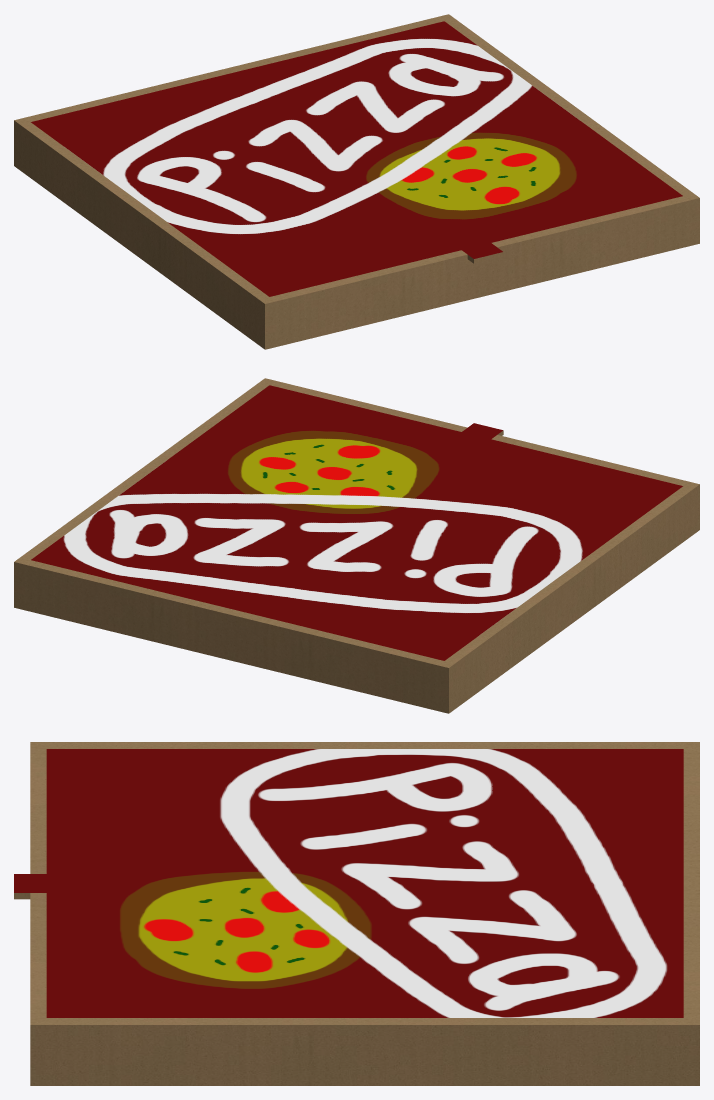
Rendered from PizzaBox.fbx.
3 renders of one model, top to bottom at view 1: azimuth 30°, elevation 25°; view 2: azimuth 150°, elevation 25°; view 3: azimuth 270°, elevation 25°, orthographic. The views are drawn at different scales.
Visible parts, largest first — view 1: PizzaBox; view 2: PizzaBox; view 3: PizzaBox.
Boxes of the visible parts, <box> form: PizzaBox: <box>14,14,699,349</box>; PizzaBox: <box>14,378,699,713</box>; PizzaBox: <box>14,742,699,1085</box>.
Bounding box in the file's own units: 39.41 × 3.96 × 40.38.
